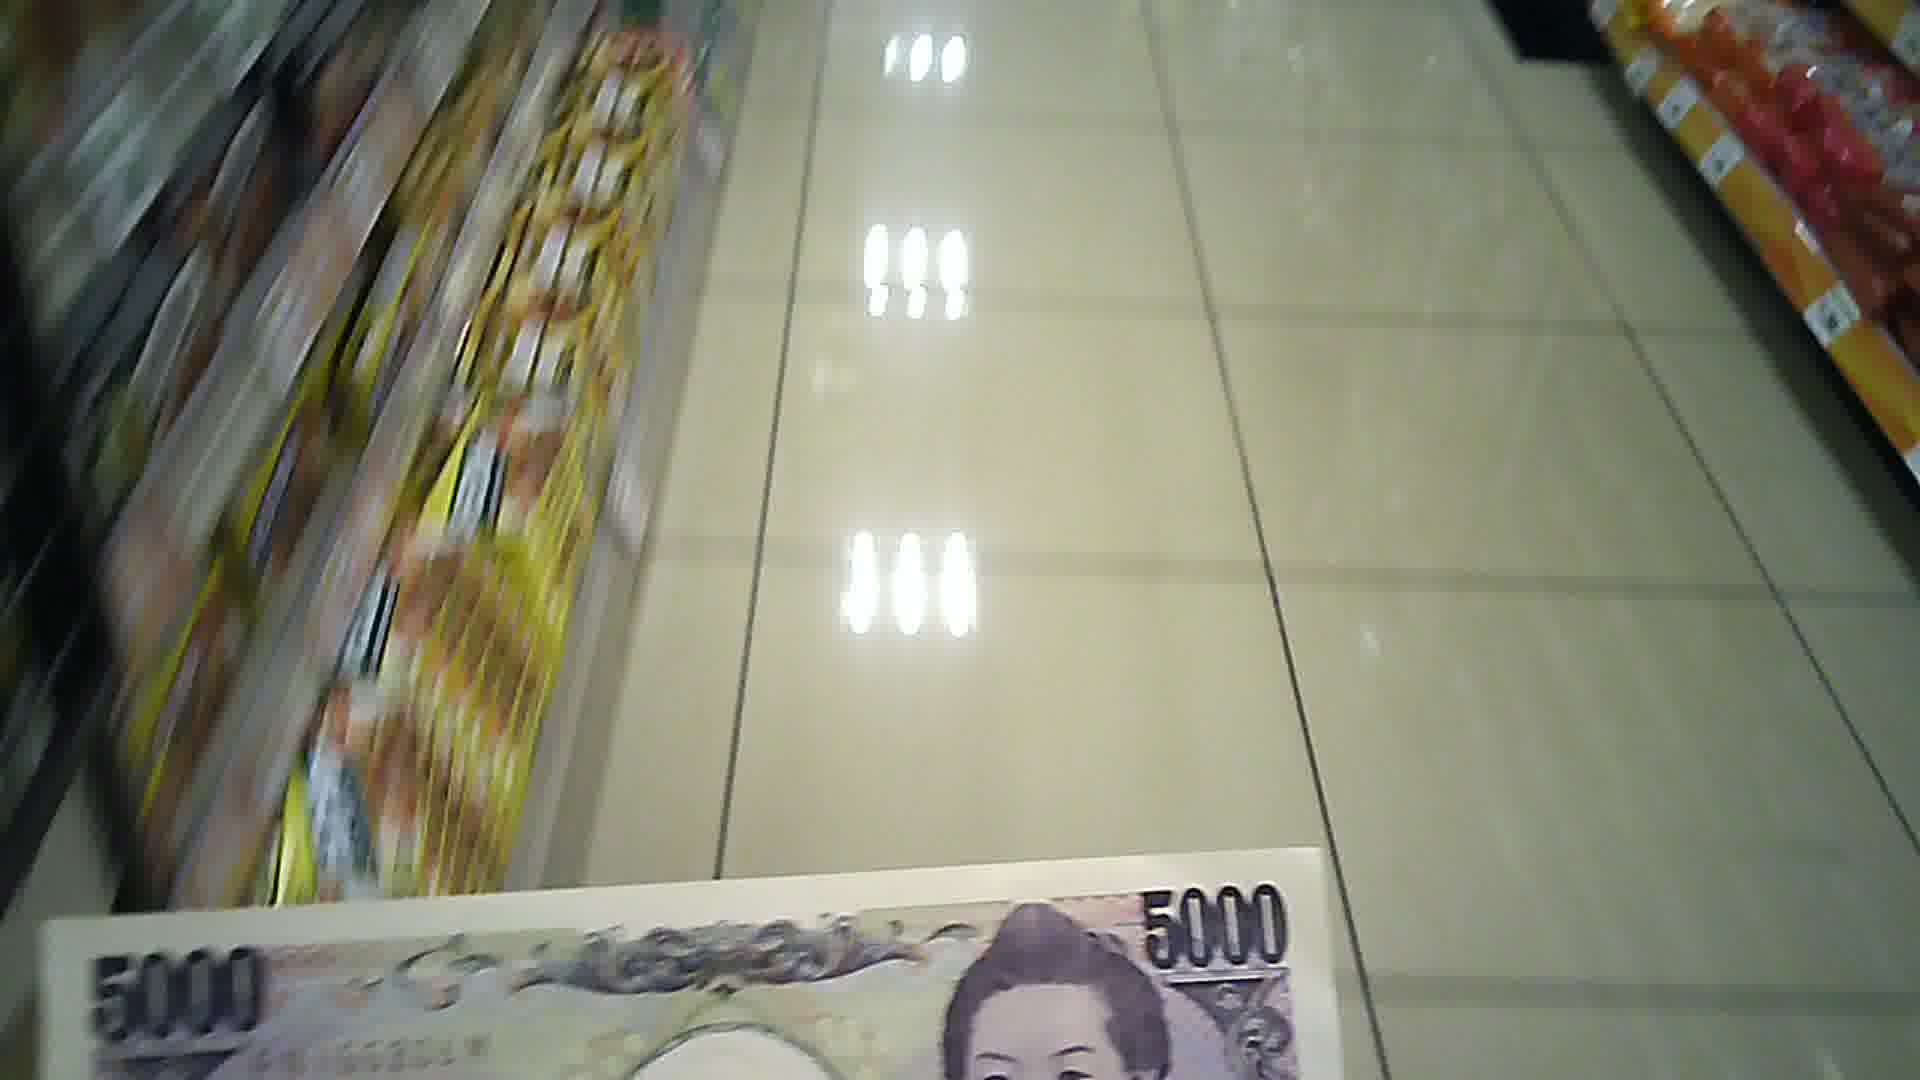5,000 Yen: (32, 882, 1360, 1069)
